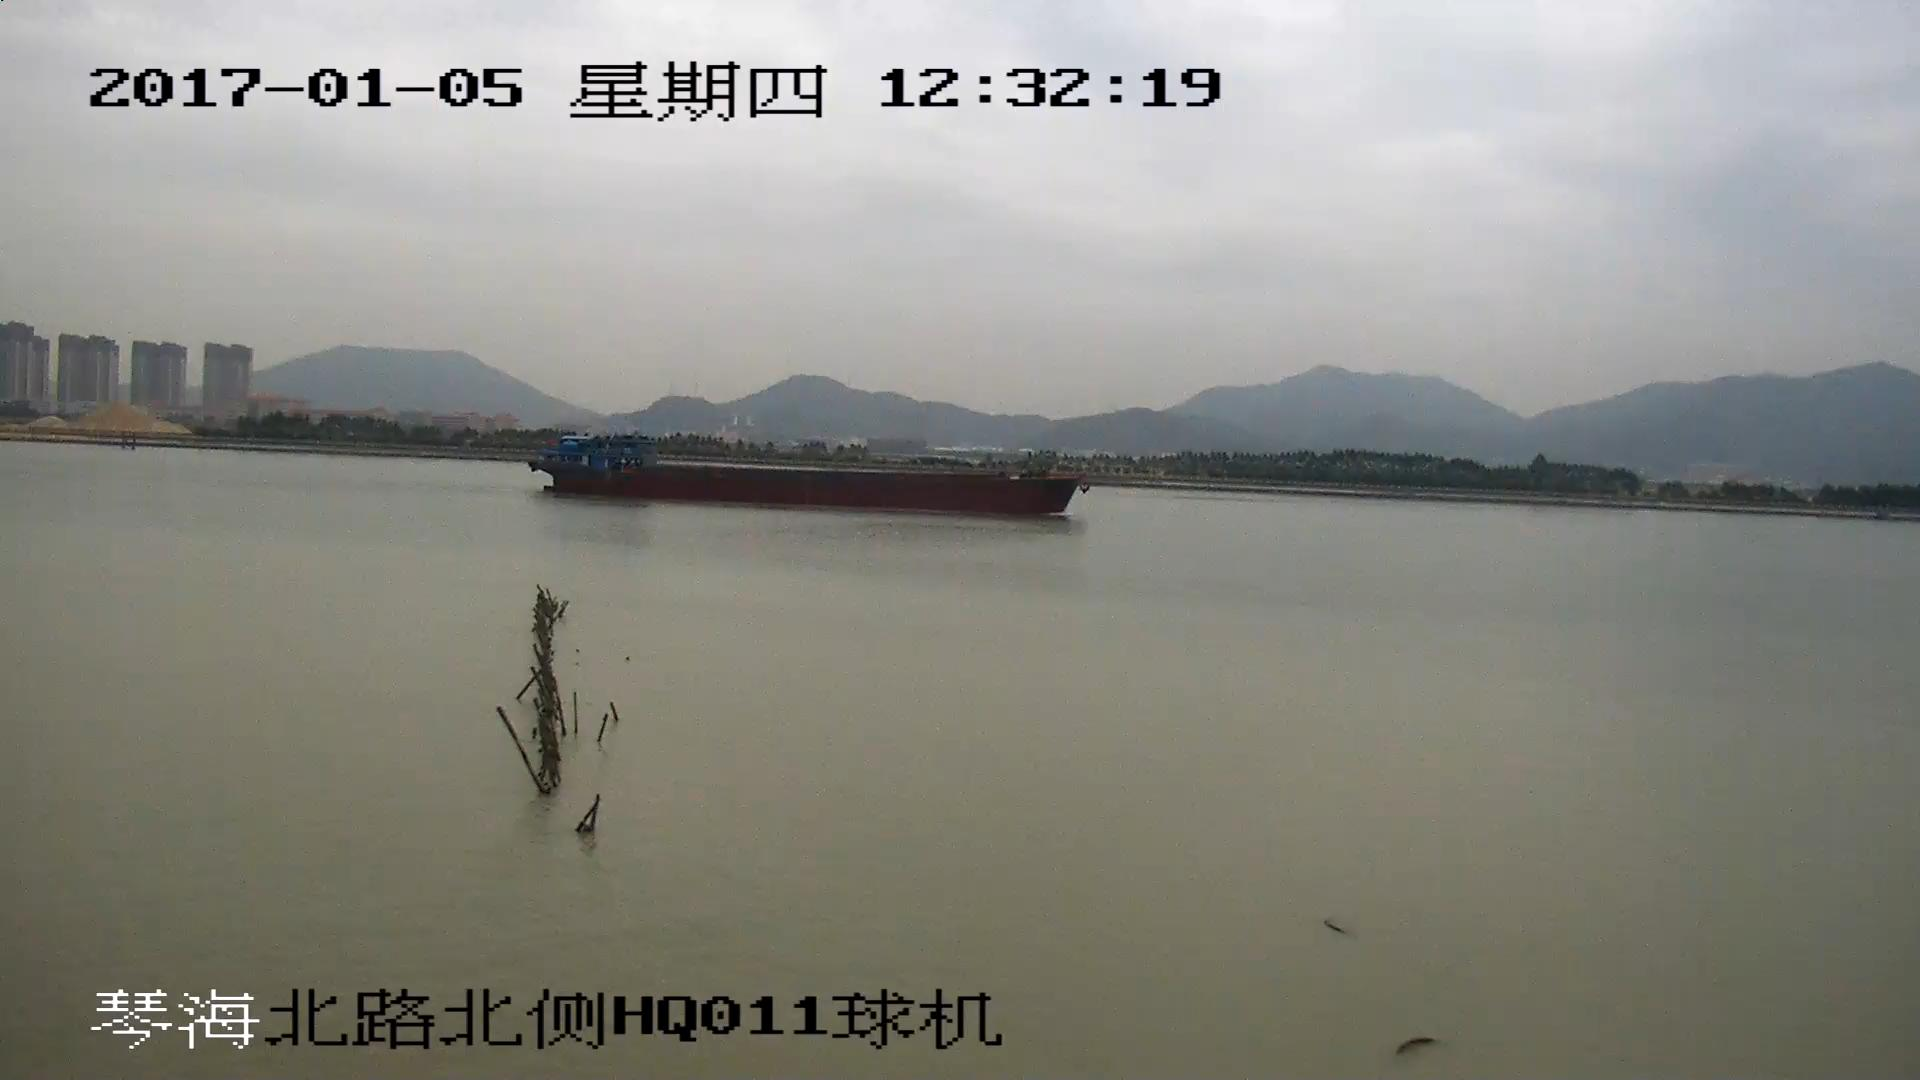bulk cargo carrier: (534, 436, 1090, 516)
